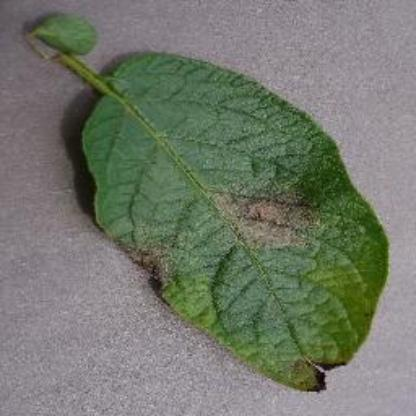Late-Blight: (70, 49, 394, 402)
